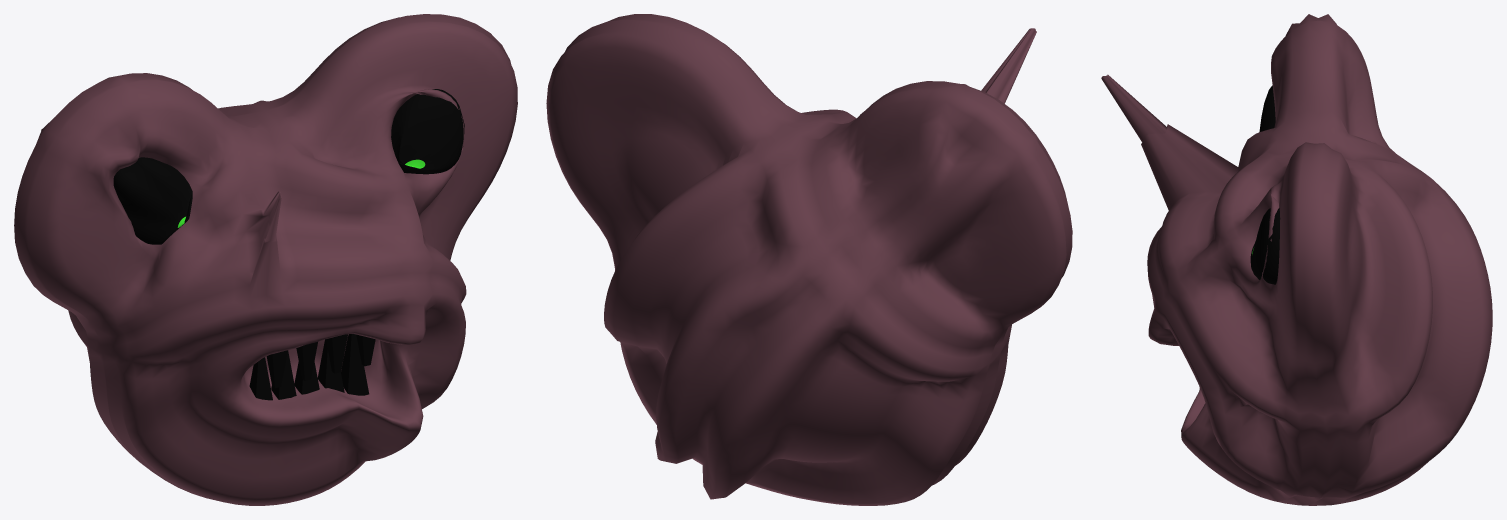
File: monster.fbx
3 views of the same model, side by side, from view 1: azimuth 30°, elevation 25°; view 2: azimuth 150°, elevation 25°; view 3: azimuth 270°, elevation 25° (orthographic). The views are drawn at different scales.
Visible parts, largest first — view 1: Sphere; view 2: Sphere; view 3: Sphere.
Boxes of the visible parts, x1,y1,x2,y2 form: Sphere: (14,14,517,505); Sphere: (546,14,1072,505); Sphere: (1101,14,1492,505).
Size of the model in its own units: 892 by 756 by 665.
